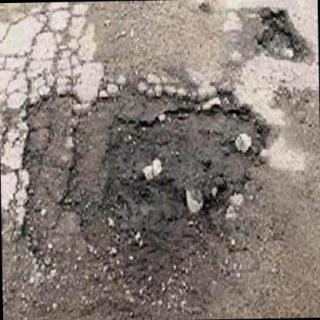pothole: (22, 93, 272, 292)
